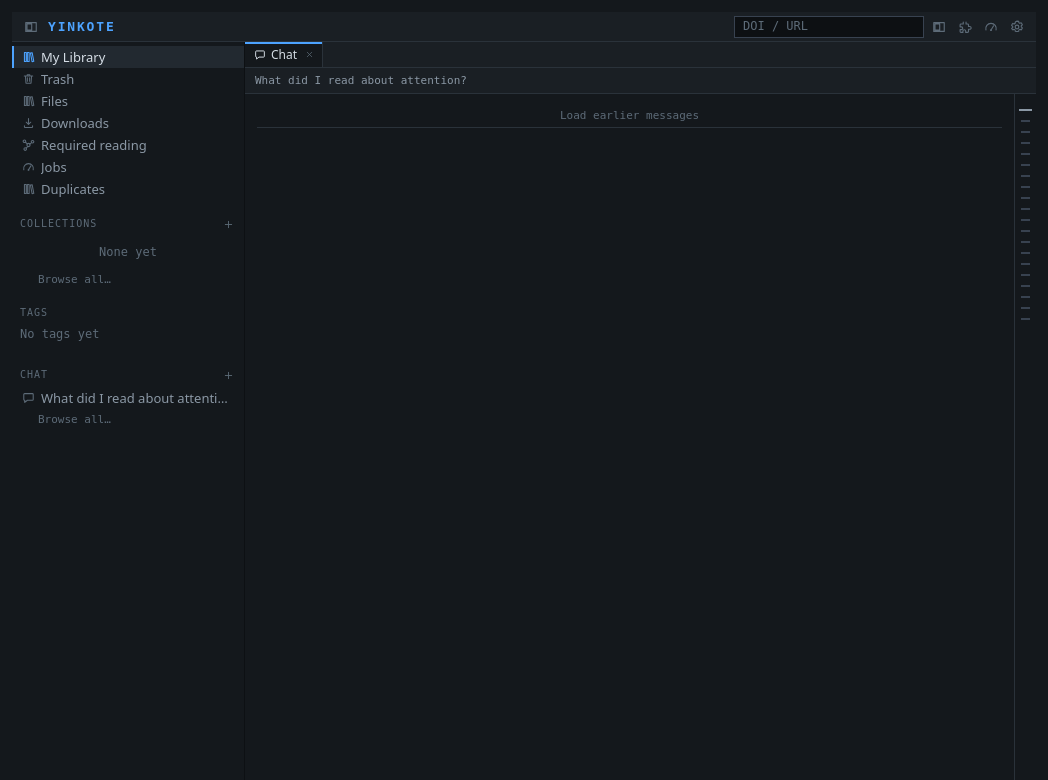
Scenario: a long conversation › keeps the reader where they were after loading earlier messages
The width and height of the screenshot is (1048, 780).
Click the button with class "chat-older" at (630, 116), box [257,104,1002,128]
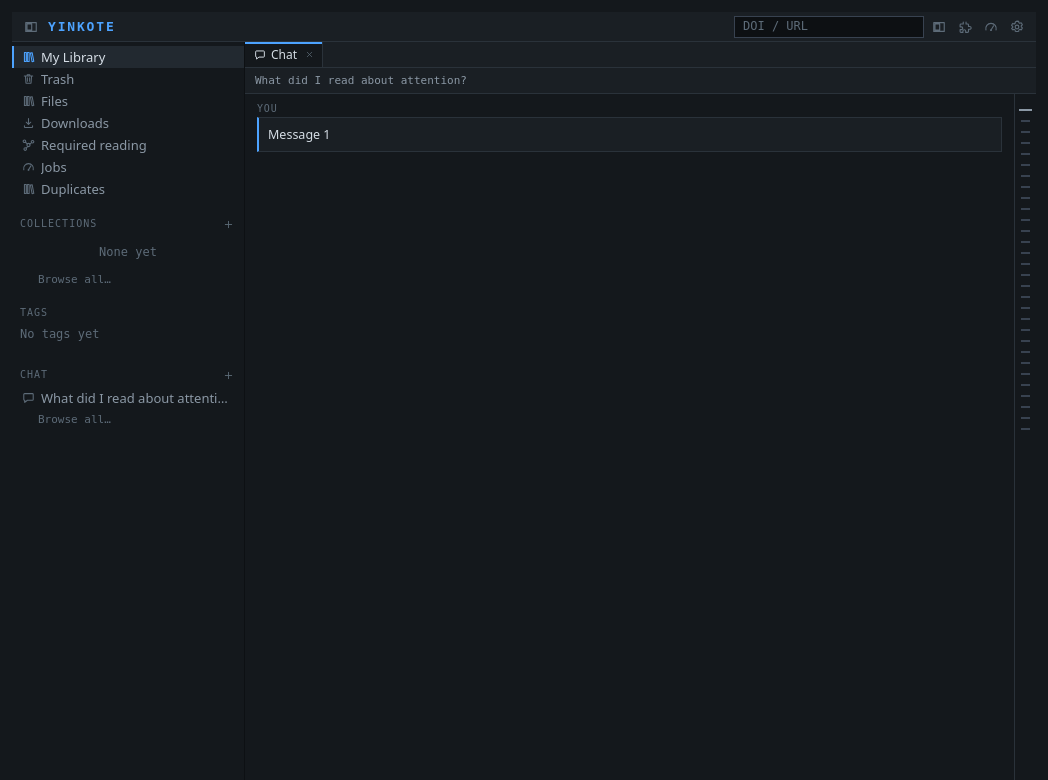
Expected: the button with class "chat-older" is gone
